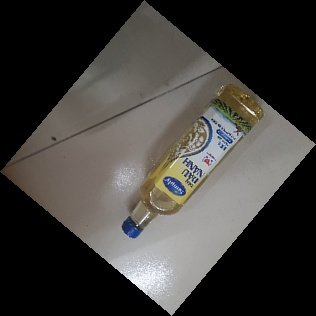Simply: (119, 81, 267, 237)
